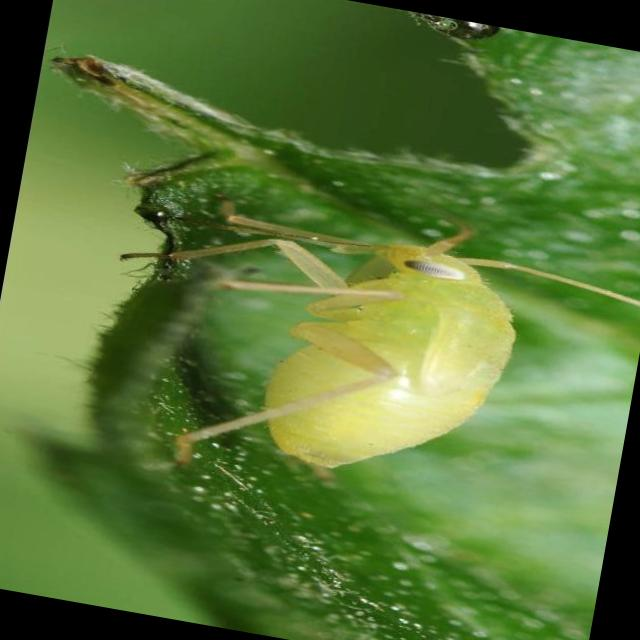aphid: (162, 202, 512, 467)
